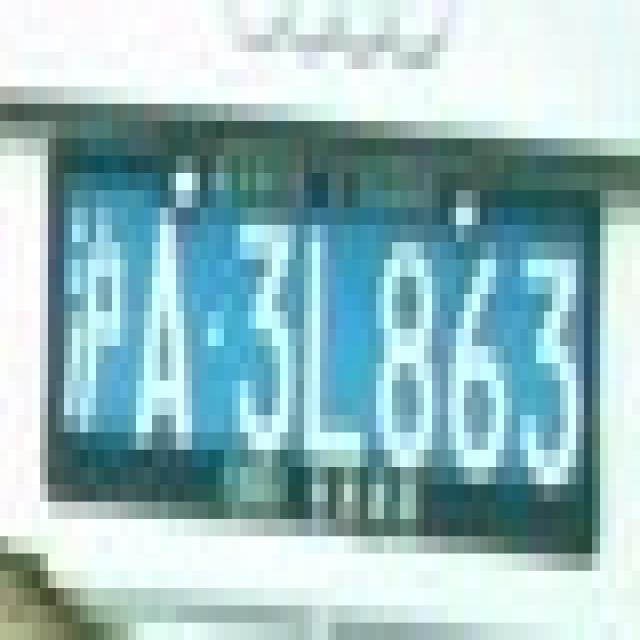licenseplate: (42, 109, 606, 576)
